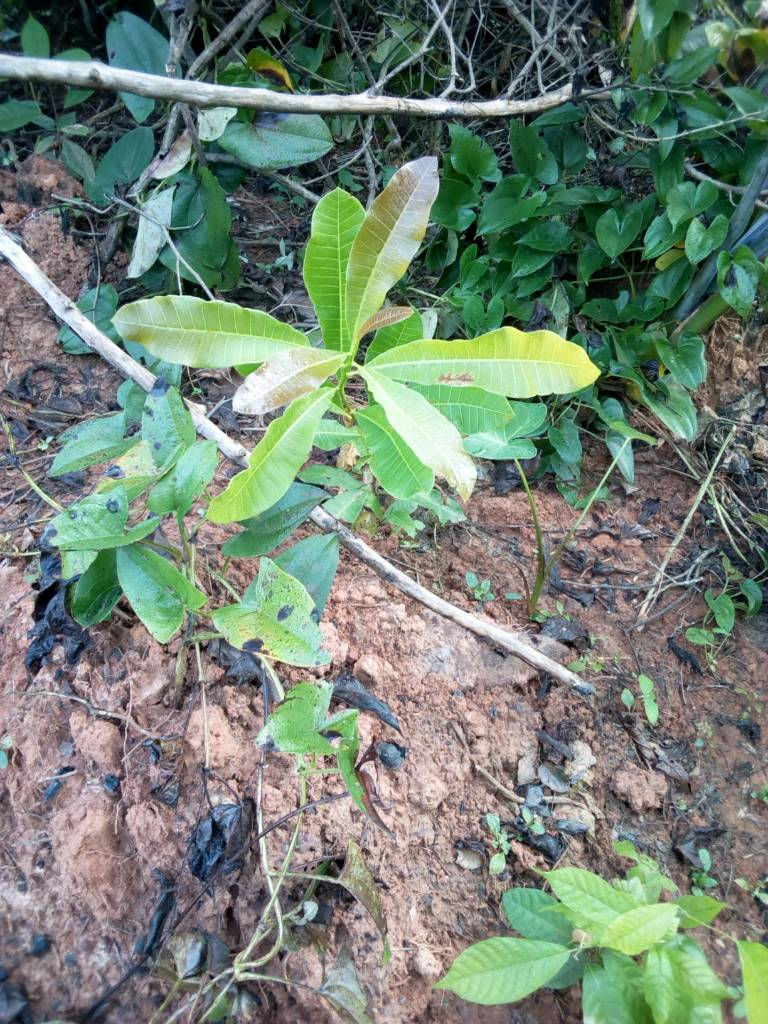Bactériose: (227, 564, 324, 666), (38, 491, 147, 550)
